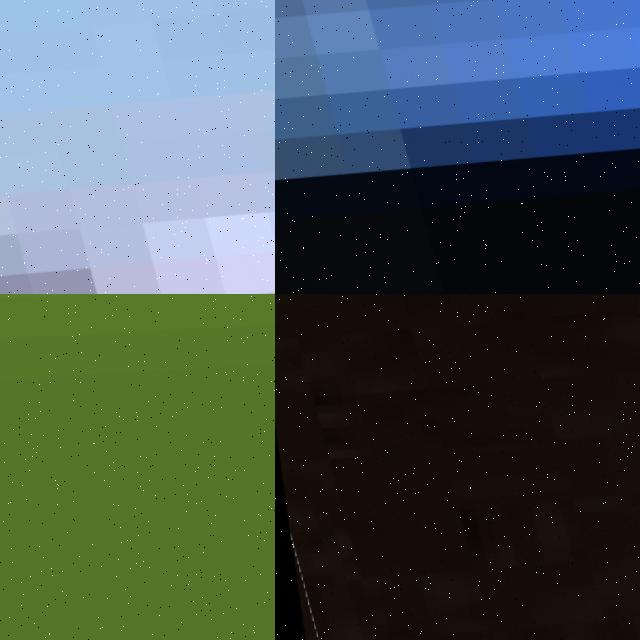drone: (275, 294, 640, 640), (275, 0, 640, 294), (0, 0, 275, 294)
